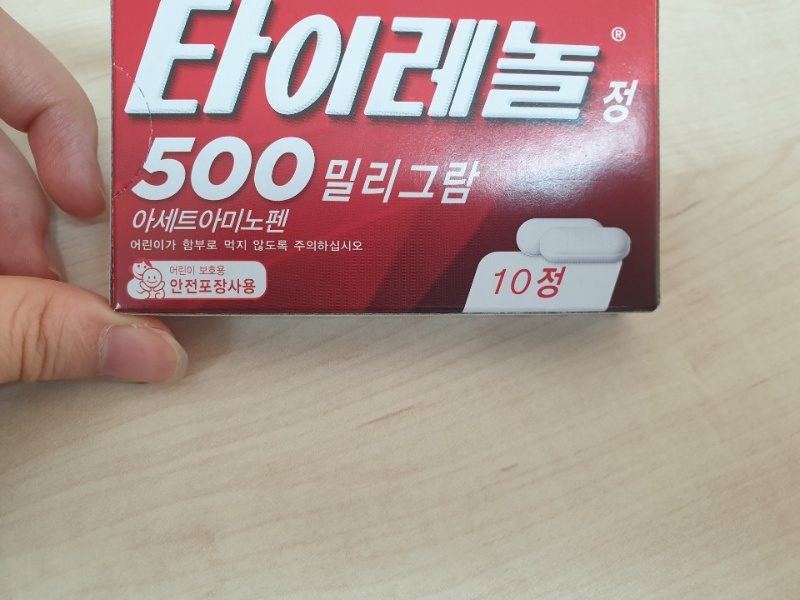tylenol: (112, 1, 664, 313)
